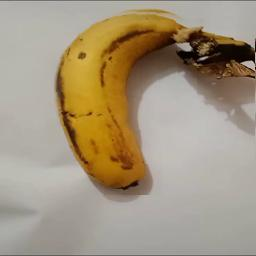Banana Semifresh: (51, 7, 256, 195)
